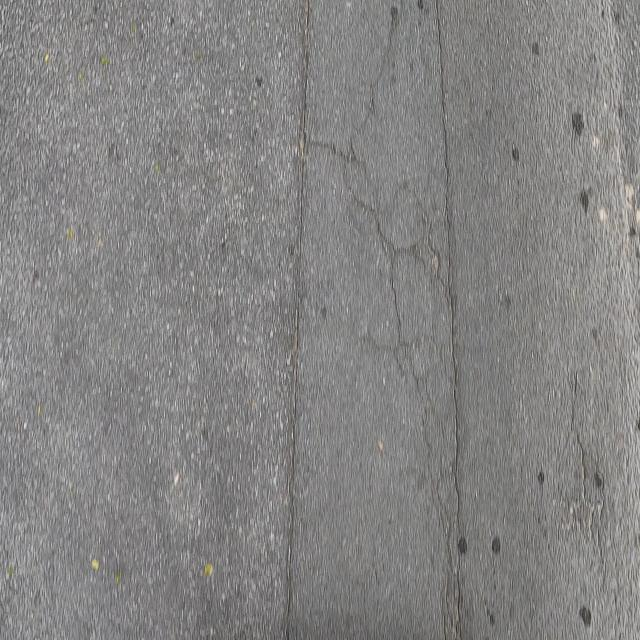Retak-Memanjang: (281, 0, 315, 637), (434, 1, 466, 639), (566, 362, 589, 511)
